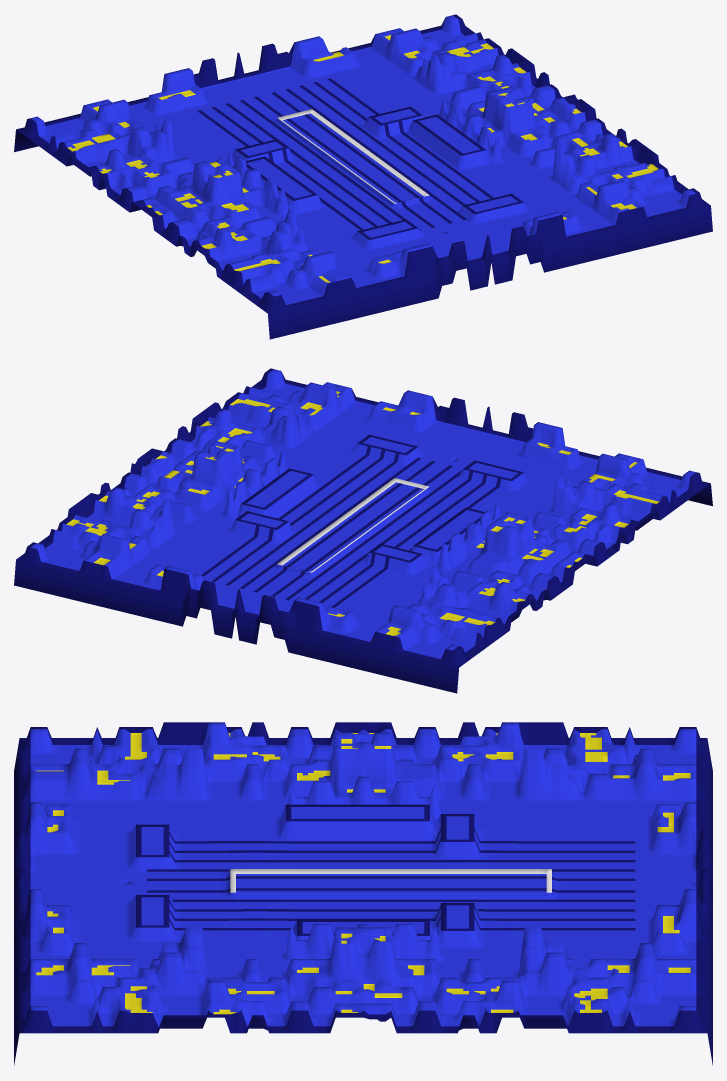
File: Level17B1.fbx
3 views of the same model, one above another, from view 1: azimuth 30°, elevation 25°; view 2: azimuth 150°, elevation 25°; view 3: azimuth 270°, elevation 25° (orthographic). The views are drawn at different scales.
Visible parts, largest first — view 1: Landscape; view 2: Landscape; view 3: Landscape.
Boxes of the visible parts, left/top/right/bottom form: Landscape: left=14, top=14, right=712, bottom=339; Landscape: left=14, top=368, right=712, bottom=693; Landscape: left=14, top=722, right=712, bottom=1065.
Size of the model in its own units: 400 by 51.06 by 400.
